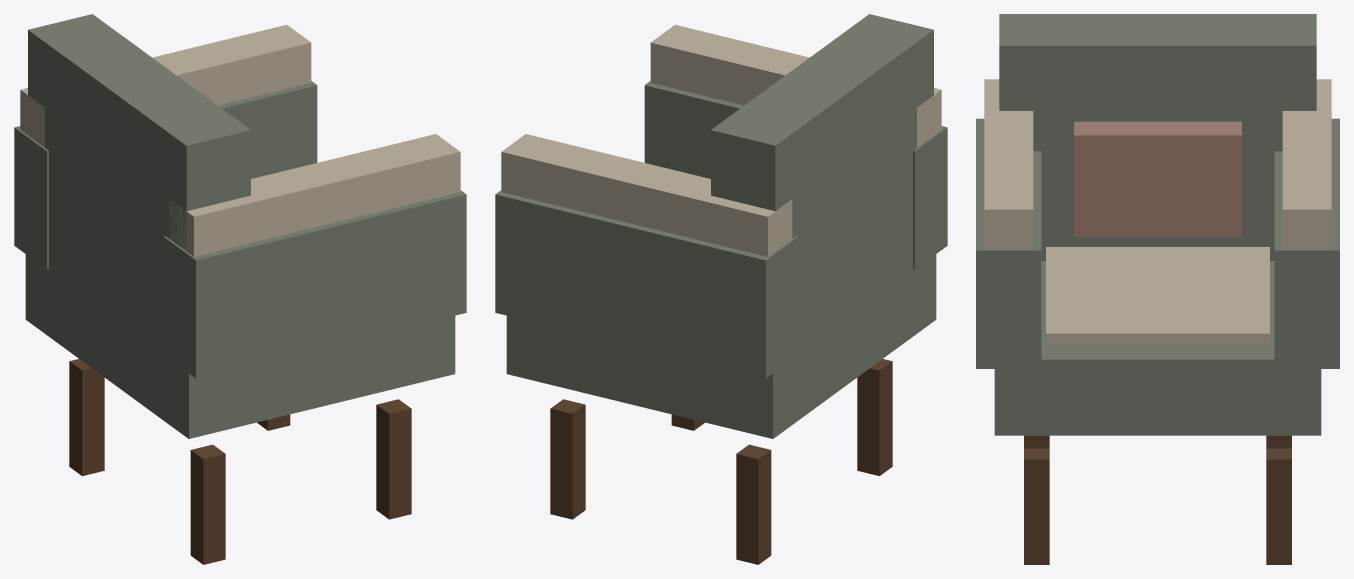
3 renders of one model, left to right at view 1: azimuth 30°, elevation 25°; view 2: azimuth 150°, elevation 25°; view 3: azimuth 270°, elevation 25°, orthographic.
Size of the model in its own units: 0.67 by 1.03 by 0.78.
